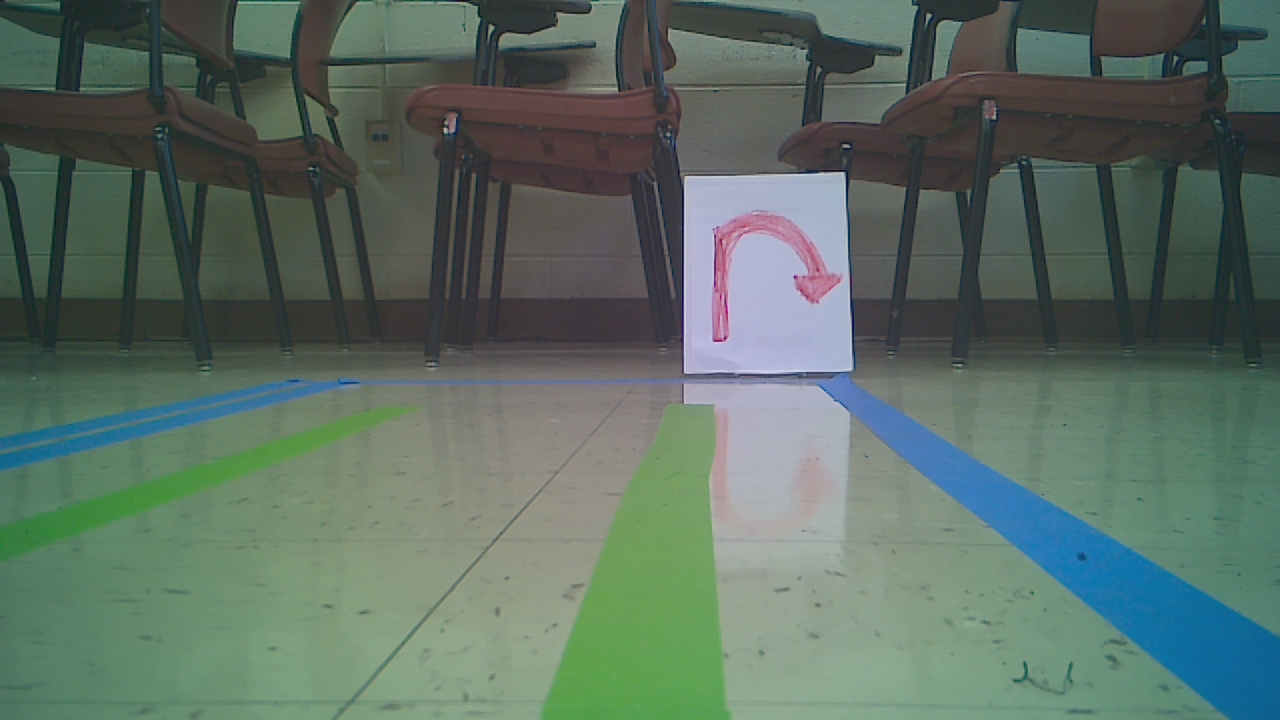greenline: (3, 403, 418, 570), (547, 404, 728, 719)
uturn: (705, 205, 846, 348)
